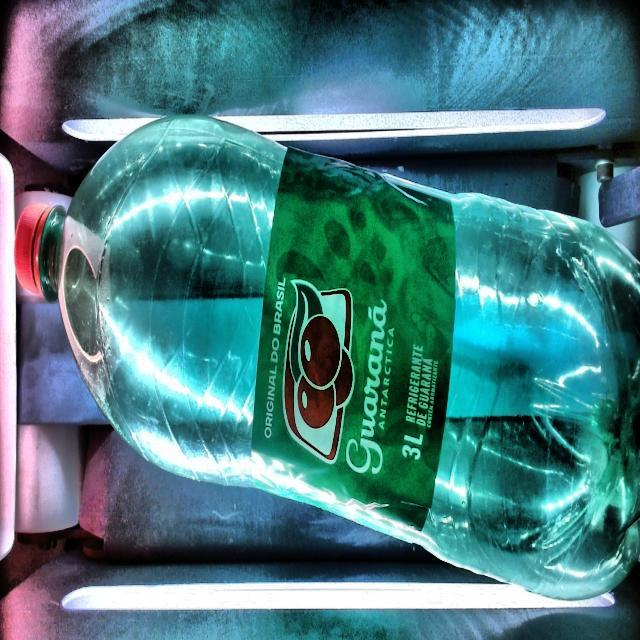bottom: (522, 211, 640, 595)
cap: (15, 176, 83, 296)
